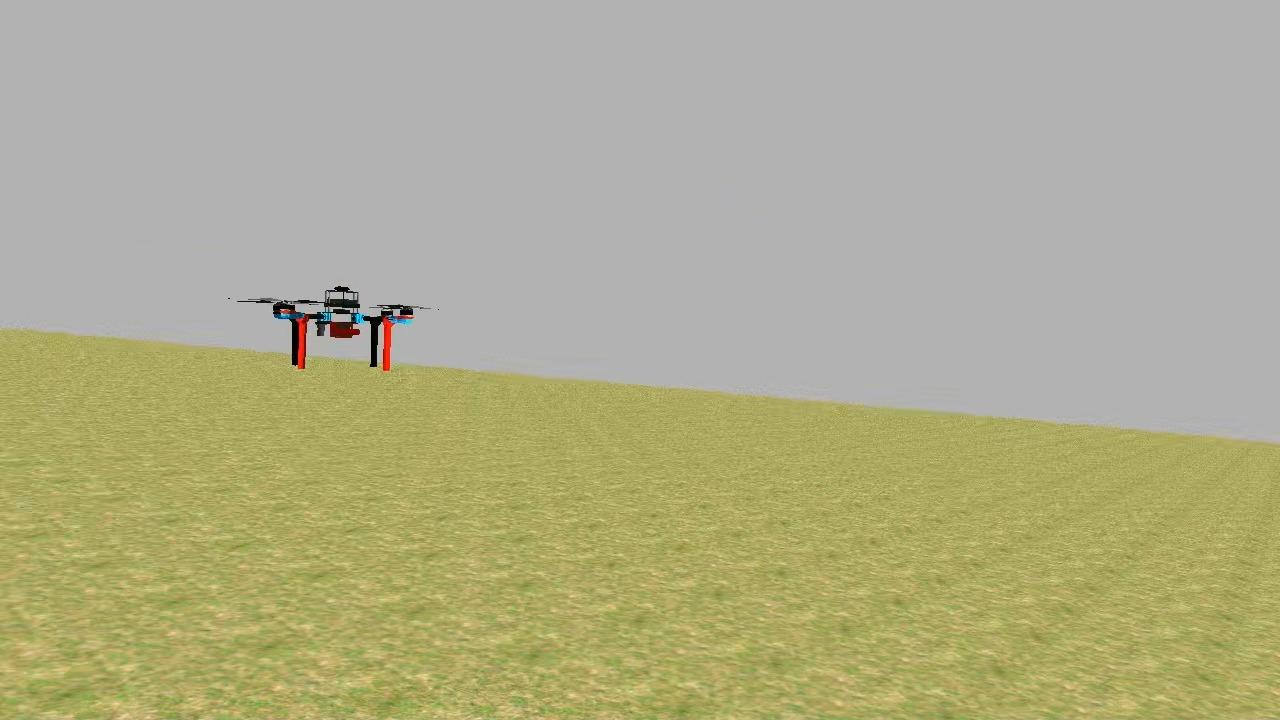UAV: (266, 282, 420, 378)
